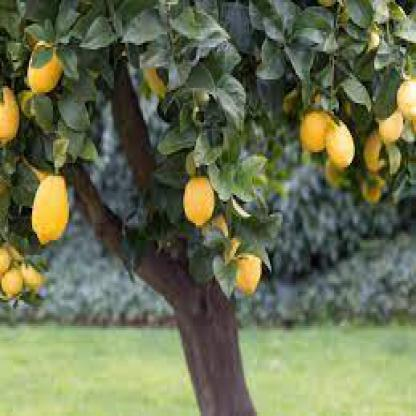lemon: (32, 176, 68, 245), (224, 237, 262, 294), (27, 42, 62, 92), (184, 176, 214, 226), (300, 110, 334, 152), (326, 120, 354, 171), (0, 86, 19, 145), (142, 57, 168, 98), (364, 128, 386, 170), (396, 78, 416, 121), (379, 110, 404, 144), (0, 270, 23, 298), (362, 172, 382, 204), (23, 263, 42, 291), (0, 247, 10, 272)
